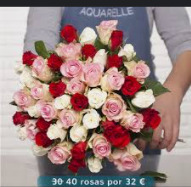RedRose: (142, 108, 165, 129), (111, 128, 131, 149), (120, 76, 141, 96), (45, 77, 65, 97), (19, 47, 35, 67), (108, 29, 124, 49), (106, 52, 123, 70), (66, 155, 85, 171), (70, 91, 85, 111), (71, 141, 86, 159), (33, 134, 51, 149), (62, 26, 78, 42), (12, 111, 28, 126), (80, 42, 95, 58), (102, 120, 116, 137), (35, 116, 50, 131), (49, 54, 63, 70)
